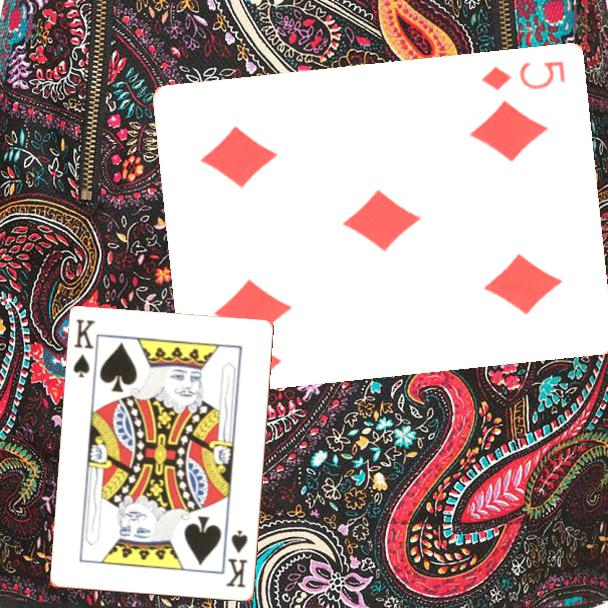d05: (477, 58, 568, 94)
s13: (70, 316, 98, 381), (223, 527, 251, 591)
